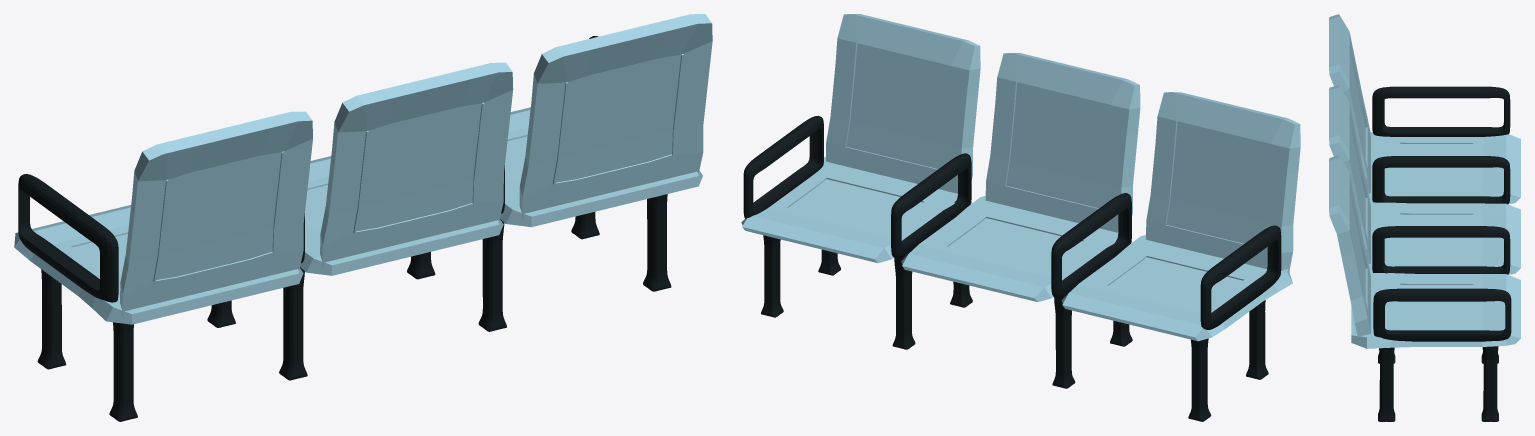
File: Hospital_Bench.fbx
3 renders of one model, left to right at view 1: azimuth 30°, elevation 25°; view 2: azimuth 150°, elevation 25°; view 3: azimuth 270°, elevation 25°, orthographic. The views are drawn at different scales.
Parts seen in each view (by area): view 1: Chairs, Legs, Armrests; view 2: Chairs, Armrests, Legs; view 3: Chairs, Armrests, Legs.
Boxes of the visible parts, bbox=[...] form: Chairs: bbox=[14, 14, 712, 324]; Legs: bbox=[37, 194, 671, 421]; Armrests: bbox=[18, 36, 598, 302]; Chairs: bbox=[741, 14, 1300, 341]; Armrests: bbox=[743, 115, 1281, 329]; Legs: bbox=[761, 235, 1268, 421]; Chairs: bbox=[1329, 14, 1520, 348]; Armrests: bbox=[1372, 86, 1511, 341]; Legs: bbox=[1378, 346, 1498, 421].
Size of the model in its own units: 635 by 300 by 244.
